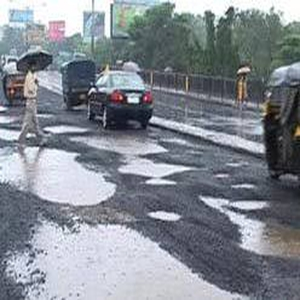pothole: (2, 142, 119, 212), (196, 189, 300, 262), (73, 135, 207, 186), (145, 209, 183, 222)
